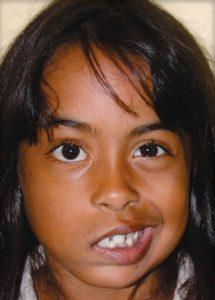strokeEyeMid: (37, 110, 179, 172)
strokeMouthSevere: (82, 215, 159, 267)
